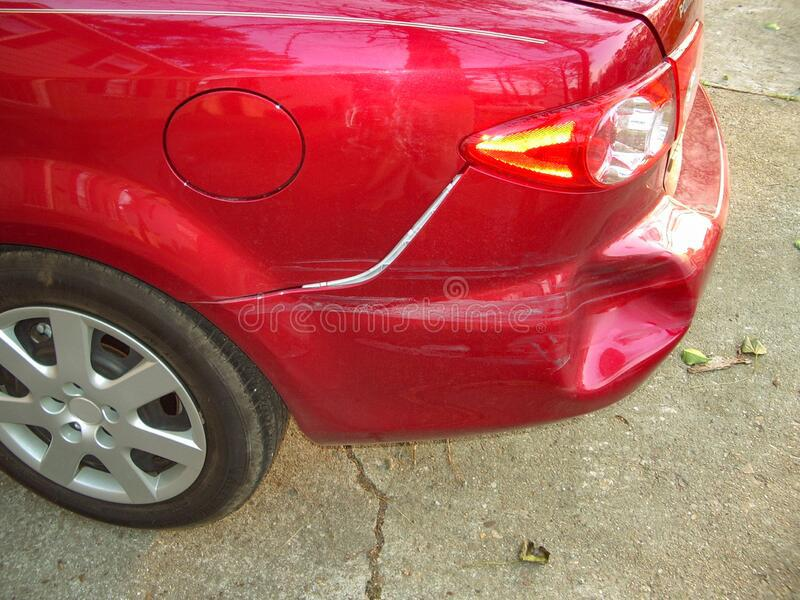rear-bumper-dent: (212, 204, 709, 450)
